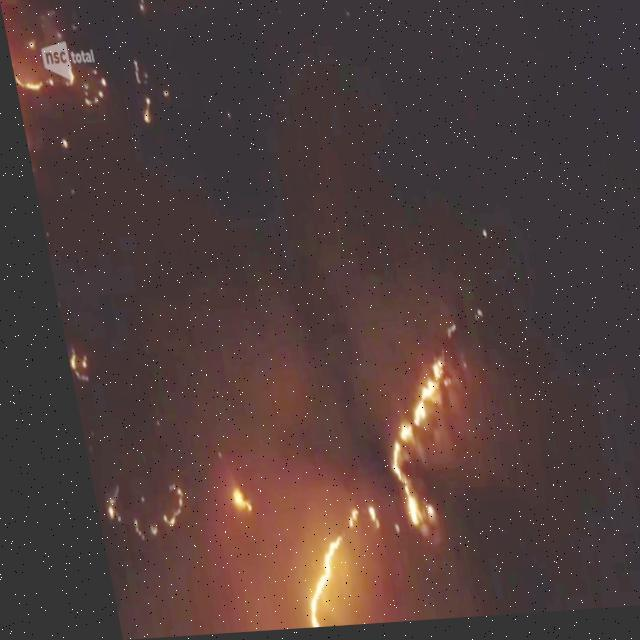Fire: (356, 368, 451, 534), (275, 540, 332, 628), (12, 68, 40, 92), (210, 489, 231, 516), (324, 508, 340, 532), (344, 511, 358, 531)
